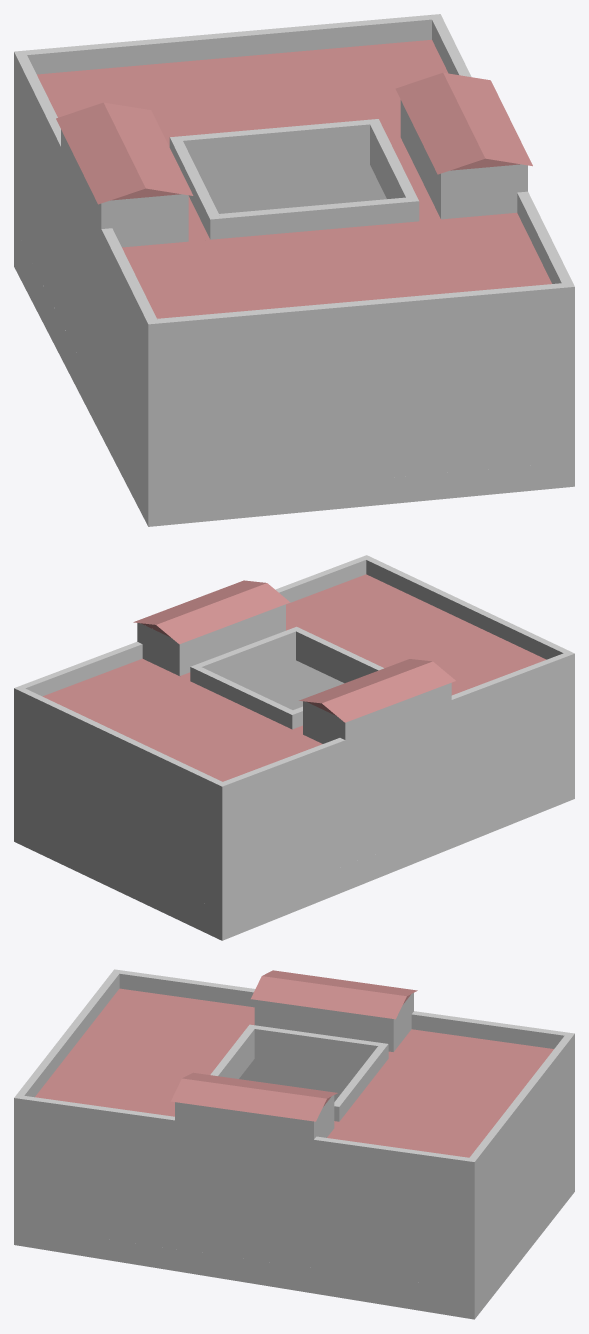
File: LOD_Block_4_8.glb
3 views of the same model, one above another, from view 1: azimuth 30°, elevation 25°; view 2: azimuth 150°, elevation 25°; view 3: azimuth 270°, elevation 25° (orthographic). The views are drawn at different scales.
Parts seen in each view (by area): view 1: mesh_CityEngineMaterial_112; view 2: mesh_CityEngineMaterial_112; view 3: mesh_CityEngineMaterial_112.
Boxes of the visible parts, x1,y1,x2,y2 form: mesh_CityEngineMaterial_112: (14, 14, 574, 526); mesh_CityEngineMaterial_112: (14, 555, 574, 940); mesh_CityEngineMaterial_112: (14, 969, 574, 1319).
Bounding box in the file's own units: 27.86 × 12.57 × 34.25.
